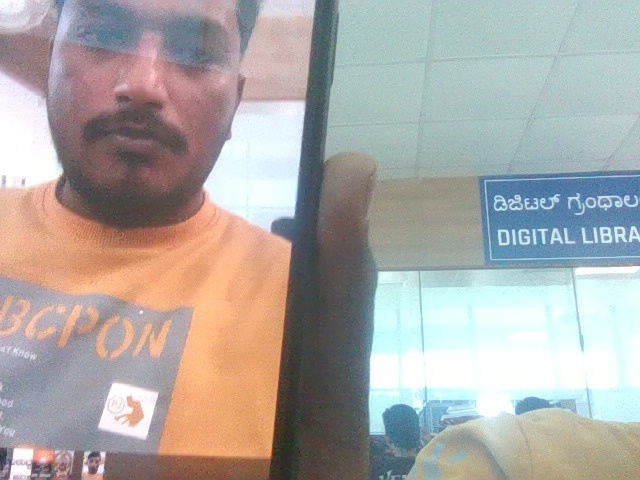fake: (10, 0, 280, 382)
